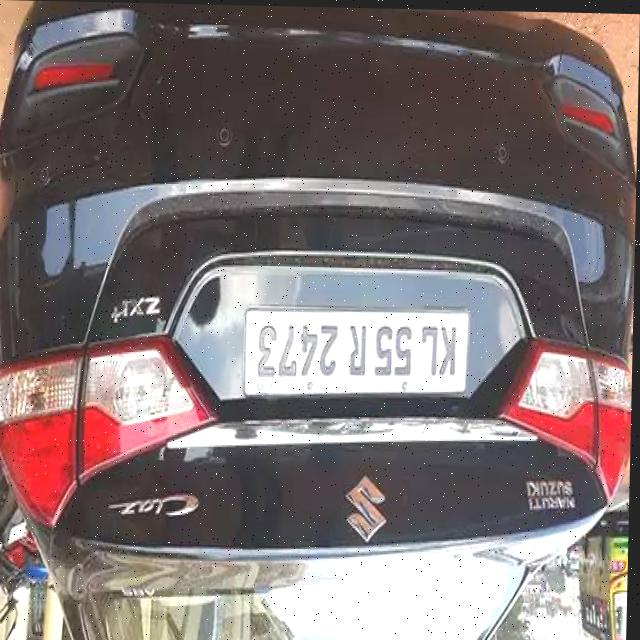plate: (244, 306, 470, 394)
